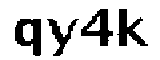4: (79, 7, 114, 50)
k: (116, 7, 150, 49)
q: (15, 16, 44, 58)
y: (44, 16, 79, 59)
